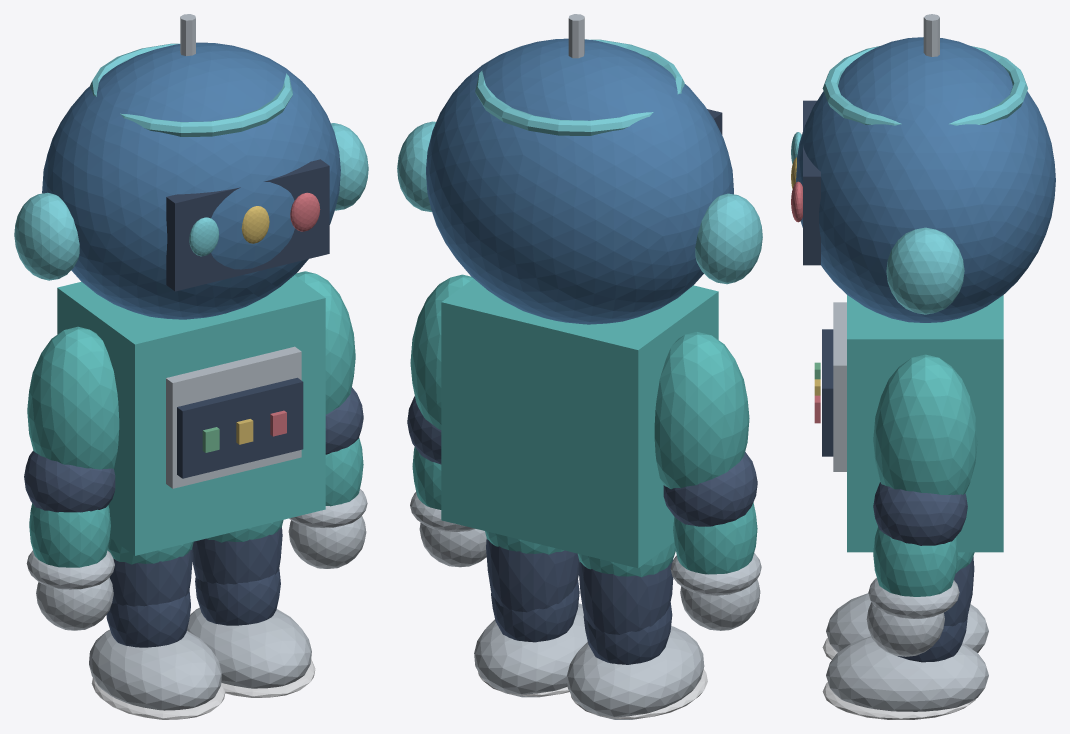
File: avatar_ai_content_monitor_v3.glb
3 renders of one model, left to right at view 1: azimuth 30°, elevation 25°; view 2: azimuth 150°, elevation 25°; view 3: azimuth 270°, elevation 25°, orthographic. The views are drawn at different scales.
Parts seen in each view (by area): view 1: monitor_dome, body_core, L_sleeve_upper, monitor_console, L_shoe, screen, R_shoe, chest_plate, L_sensor_pod, L_sleeve_lower, L_elbow, R_leg (+20 smaller); view 2: monitor_dome, body_core, L_sleeve_upper, L_shoe, R_shoe, L_leg, R_leg, L_sensor_pod, L_elbow, L_sleeve_lower, R_sleeve_upper, scan_ring (+13 smaller); view 3: monitor_dome, body_core, R_sleeve_upper, R_shoe, R_sensor_pod, R_elbow, R_sleeve_lower, scan_ring, R_hand, L_shoe, chest_plate, screen (+6 smaller).
Part boxes in pixels (<box>): monitor_dome: <box>42,42,340,319</box>; body_core: <box>57,275,325,555</box>; L_sleeve_upper: <box>27,326,119,469</box>; monitor_console: <box>177,377,303,478</box>; L_shoe: <box>89,629,221,710</box>; screen: <box>166,159,329,291</box>; R_shoe: <box>187,607,311,688</box>; chest_plate: <box>166,346,301,488</box>; L_sensor_pod: <box>14,192,79,280</box>; L_sleeve_lower: <box>29,503,110,567</box>; L_elbow: <box>24,451,115,512</box>; R_leg: <box>192,527,282,584</box>; monitor_dome: <box>426,38,733,324</box>; body_core: <box>441,278,718,568</box>; L_sleeve_upper: <box>654,332,749,489</box>; L_shoe: <box>566,626,704,719</box>; R_shoe: <box>474,603,587,697</box>; L_leg: <box>578,559,673,634</box>; R_leg: <box>486,539,579,612</box>; L_sensor_pod: <box>695,193,762,284</box>; L_elbow: <box>663,452,757,526</box>; L_sleeve_lower: <box>673,502,757,574</box>; R_sleeve_upper: <box>410,274,473,429</box>; scan_ring: <box>475,39,684,135</box>; monitor_dome: <box>796,37,1055,322</box>; body_core: <box>847,295,1003,552</box>; R_sleeve_upper: <box>873,354,977,494</box>; R_shoe: <box>826,636,988,711</box>; R_sensor_pod: <box>886,227,964,314</box>; R_elbow: <box>873,482,967,545</box>; R_sleeve_lower: <box>873,526,957,596</box>; scan_ring: <box>822,46,1027,125</box>; R_hand: <box>866,602,944,656</box>; L_shoe: <box>826,593,988,652</box>; chest_plate: <box>833,302,846,471</box>; screen: <box>803,100,820,265</box>.
Bounding box in the file's own units: 1.22 × 2.27 × 0.812.
